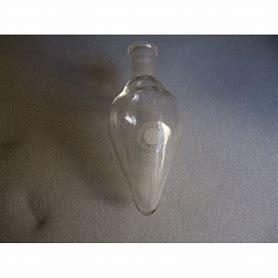Pear shaped flask: (90, 48, 189, 213)
